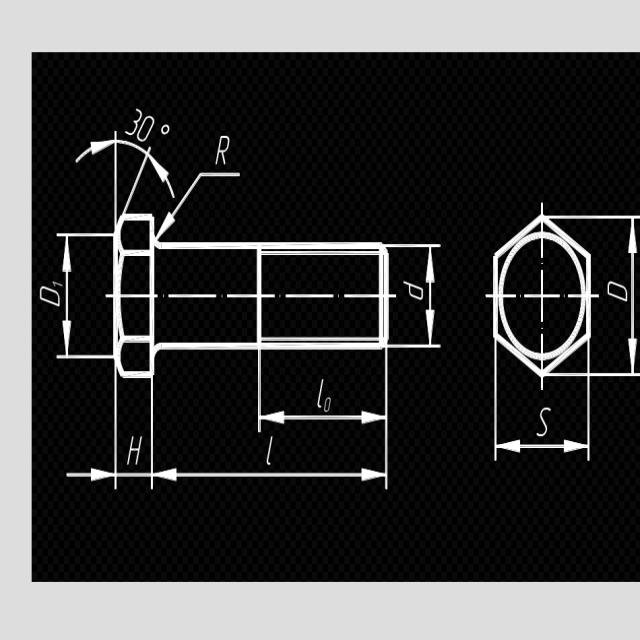marking_line: (260, 405, 384, 430), (154, 469, 386, 482), (59, 240, 78, 357), (421, 248, 440, 345), (497, 438, 588, 455), (628, 215, 637, 370), (63, 465, 115, 488)
numeric: (126, 109, 153, 144)
special_symbol: (78, 144, 172, 221), (157, 174, 245, 240)
